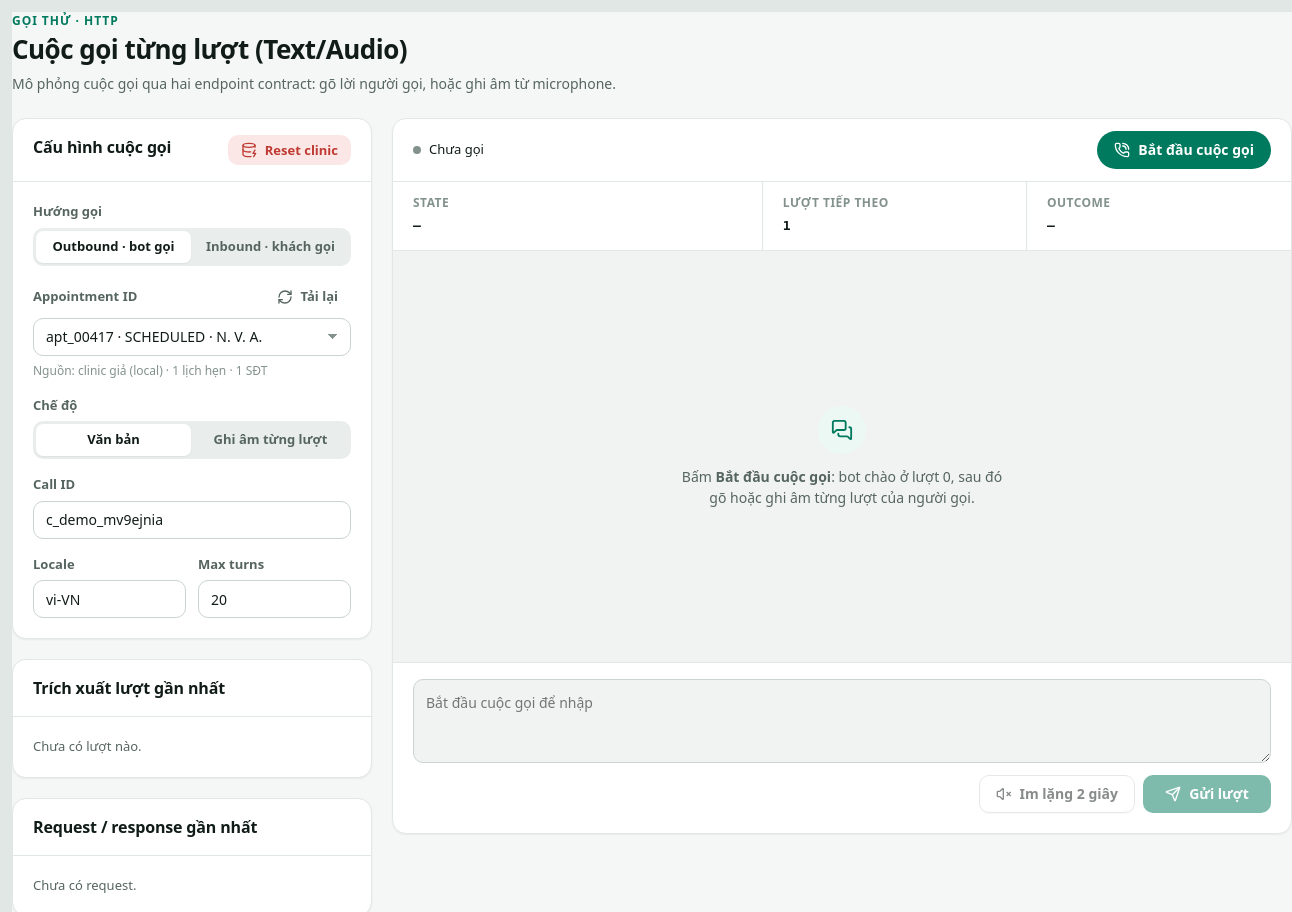
Test: CallPage › gửi key đã đăng nhập dưới dạng Bearer
Click the button "Bắt đầu cuộc gọi" at (1184, 150), box [1097,131,1271,169]
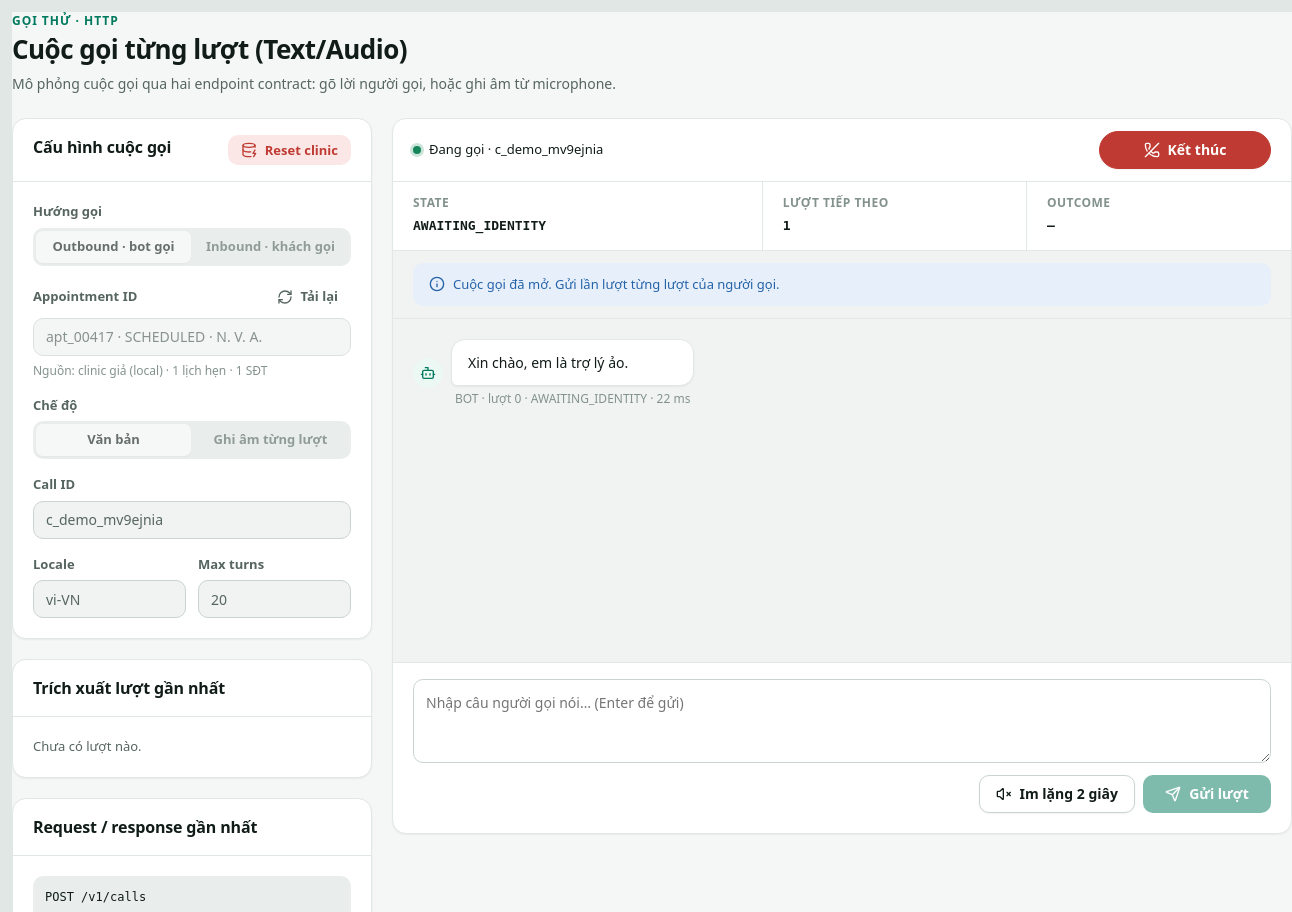
Check: the text "Xin chào, em là trợ lý ảo." is shown, box [451,339,694,386]
